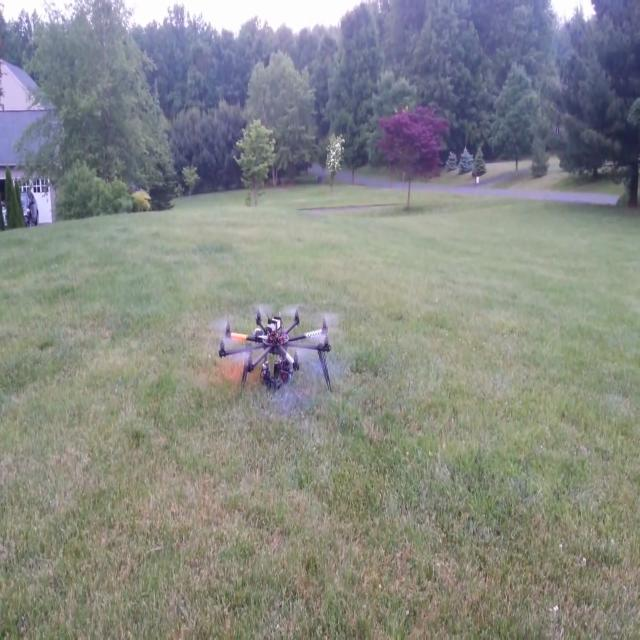drone: (214, 305, 346, 406)
